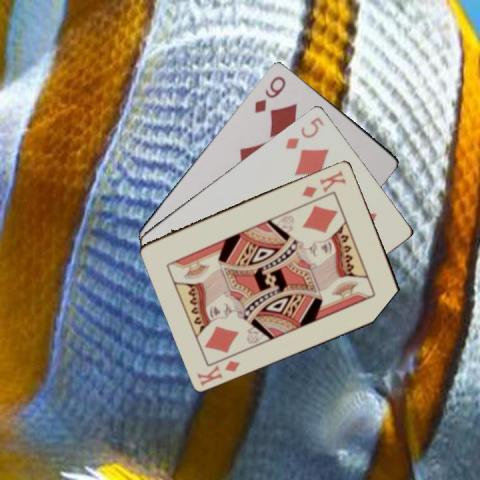5d: (282, 113, 326, 151)
9d: (252, 73, 287, 114)
Kd: (299, 168, 348, 199), (194, 356, 241, 386)
